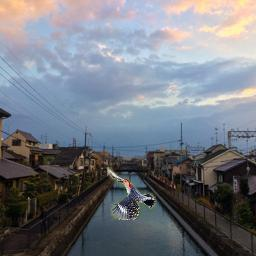Woodpecker: (107, 167, 156, 220)
